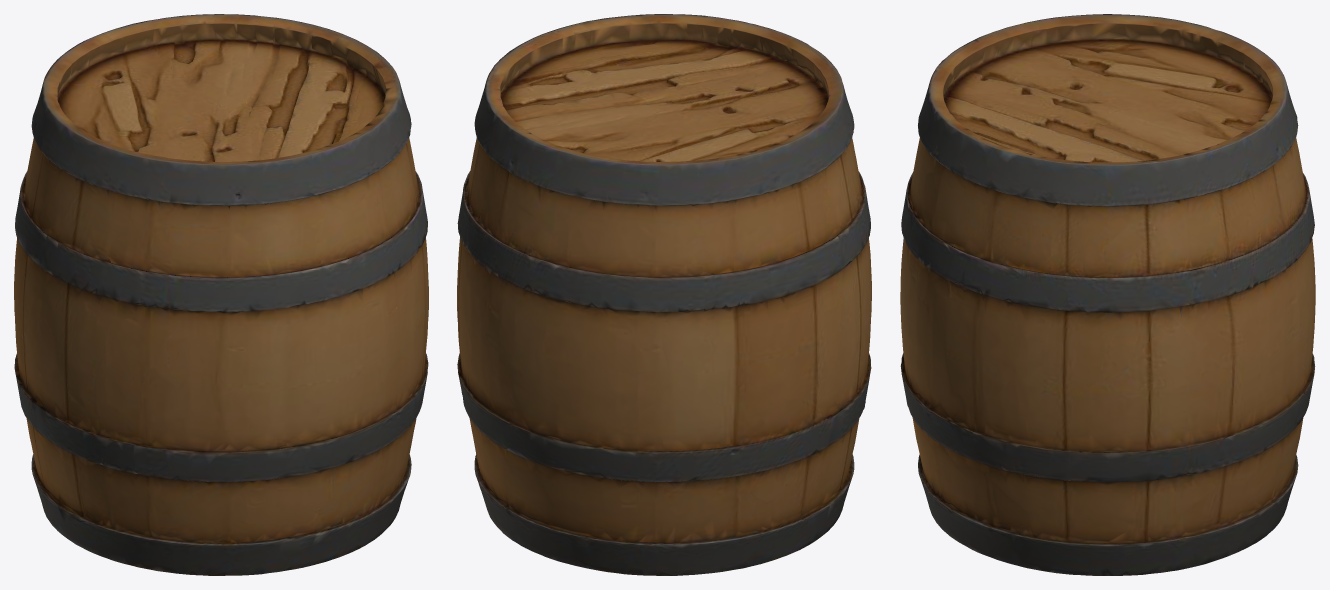
File: prop_barrel-BjMBE5oy.glb
3 renders of one model, left to right at view 1: azimuth 30°, elevation 25°; view 2: azimuth 150°, elevation 25°; view 3: azimuth 270°, elevation 25°, orthographic.
Parts seen in each view (by area): view 1: tripo_node_54ee733a-1843-4541-944e-afb345fce67b; view 2: tripo_node_54ee733a-1843-4541-944e-afb345fce67b; view 3: tripo_node_54ee733a-1843-4541-944e-afb345fce67b.
Boxes of the visible parts, x1,y1,x2,y2 form: tripo_node_54ee733a-1843-4541-944e-afb345fce67b: [14, 14, 428, 575]; tripo_node_54ee733a-1843-4541-944e-afb345fce67b: [457, 14, 871, 575]; tripo_node_54ee733a-1843-4541-944e-afb345fce67b: [900, 14, 1315, 575].
Size of the model in its own units: 0.9157 by 1 by 0.9157.
1 material, 1 textured.
